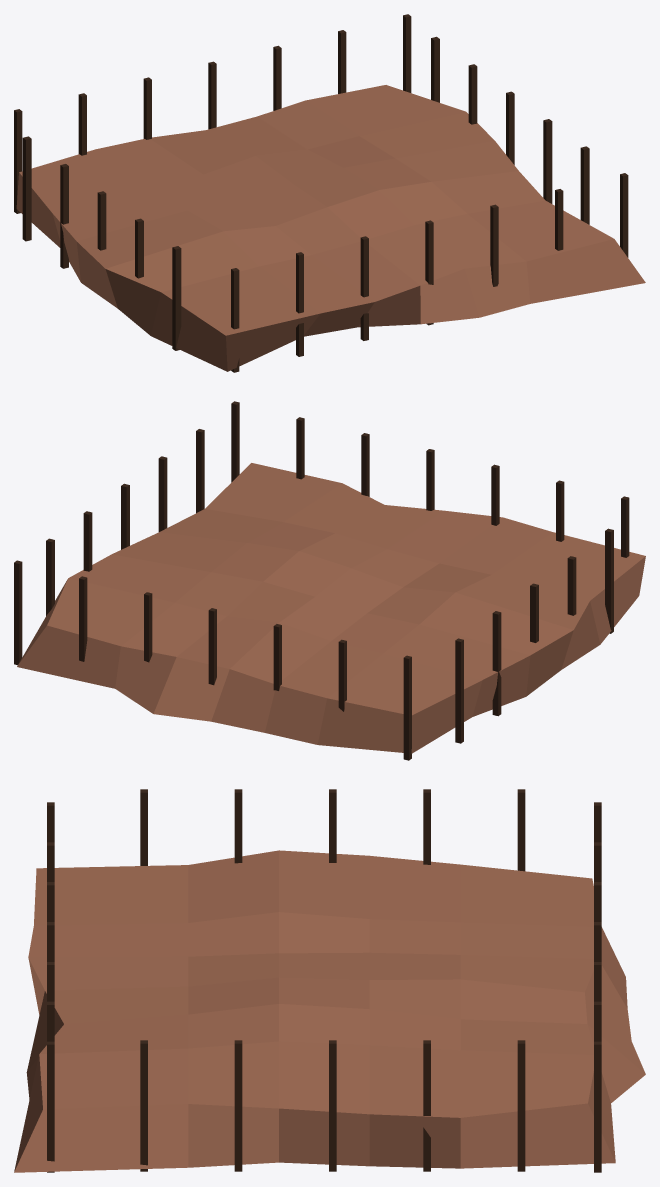
Rendered from Plot.fbx.
The picture shows the model from 3 angles, top to bottom: view 1: azimuth 30°, elevation 25°; view 2: azimuth 150°, elevation 25°; view 3: azimuth 270°, elevation 25°; orthographic projection. The views are drawn at different scales.
Parts seen in each view (by area): view 1: Plot; view 2: Plot; view 3: Plot.
Boxes of the visible parts, x1=… form: Plot: x1=14, y1=14, x2=645, y2=372; Plot: x1=14, y1=401, x2=645, y2=760; Plot: x1=14, y1=789, x2=645, y2=1172.
Bounding box in the file's own units: 279 × 62.23 × 279.
